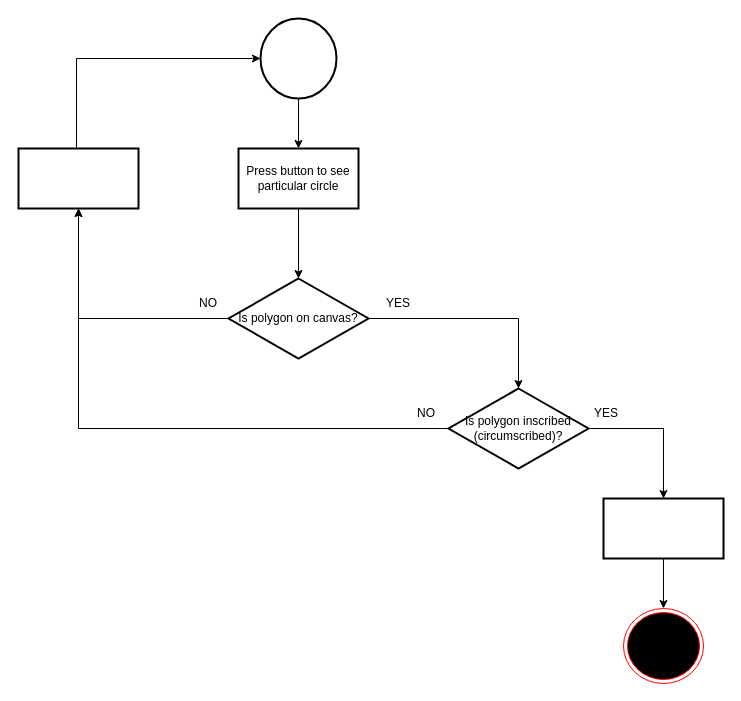
Image size: 741x701. Some labels were removed from this diagram. Each missing label, with the centre of its shape:
"Display error" belongs at pixel 78 178.
"Draw correspondent circle" belongs at pixel 663 528.
